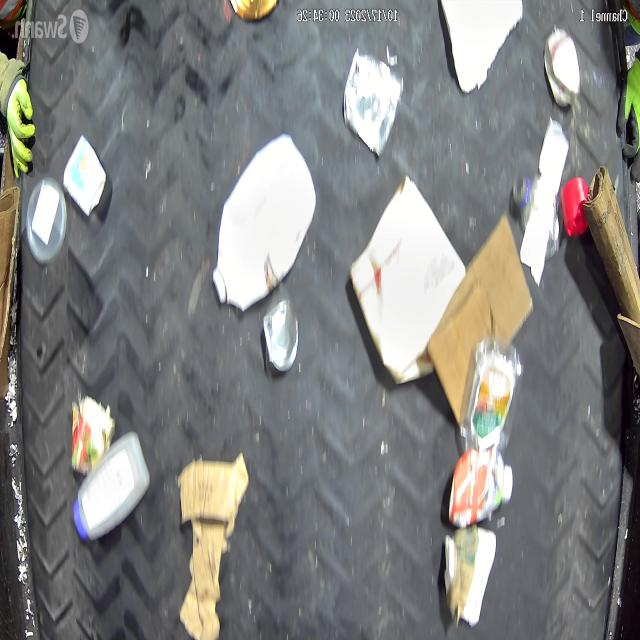can: (342, 46, 404, 159), (261, 295, 299, 373)
milk_jug: (211, 130, 317, 316)
